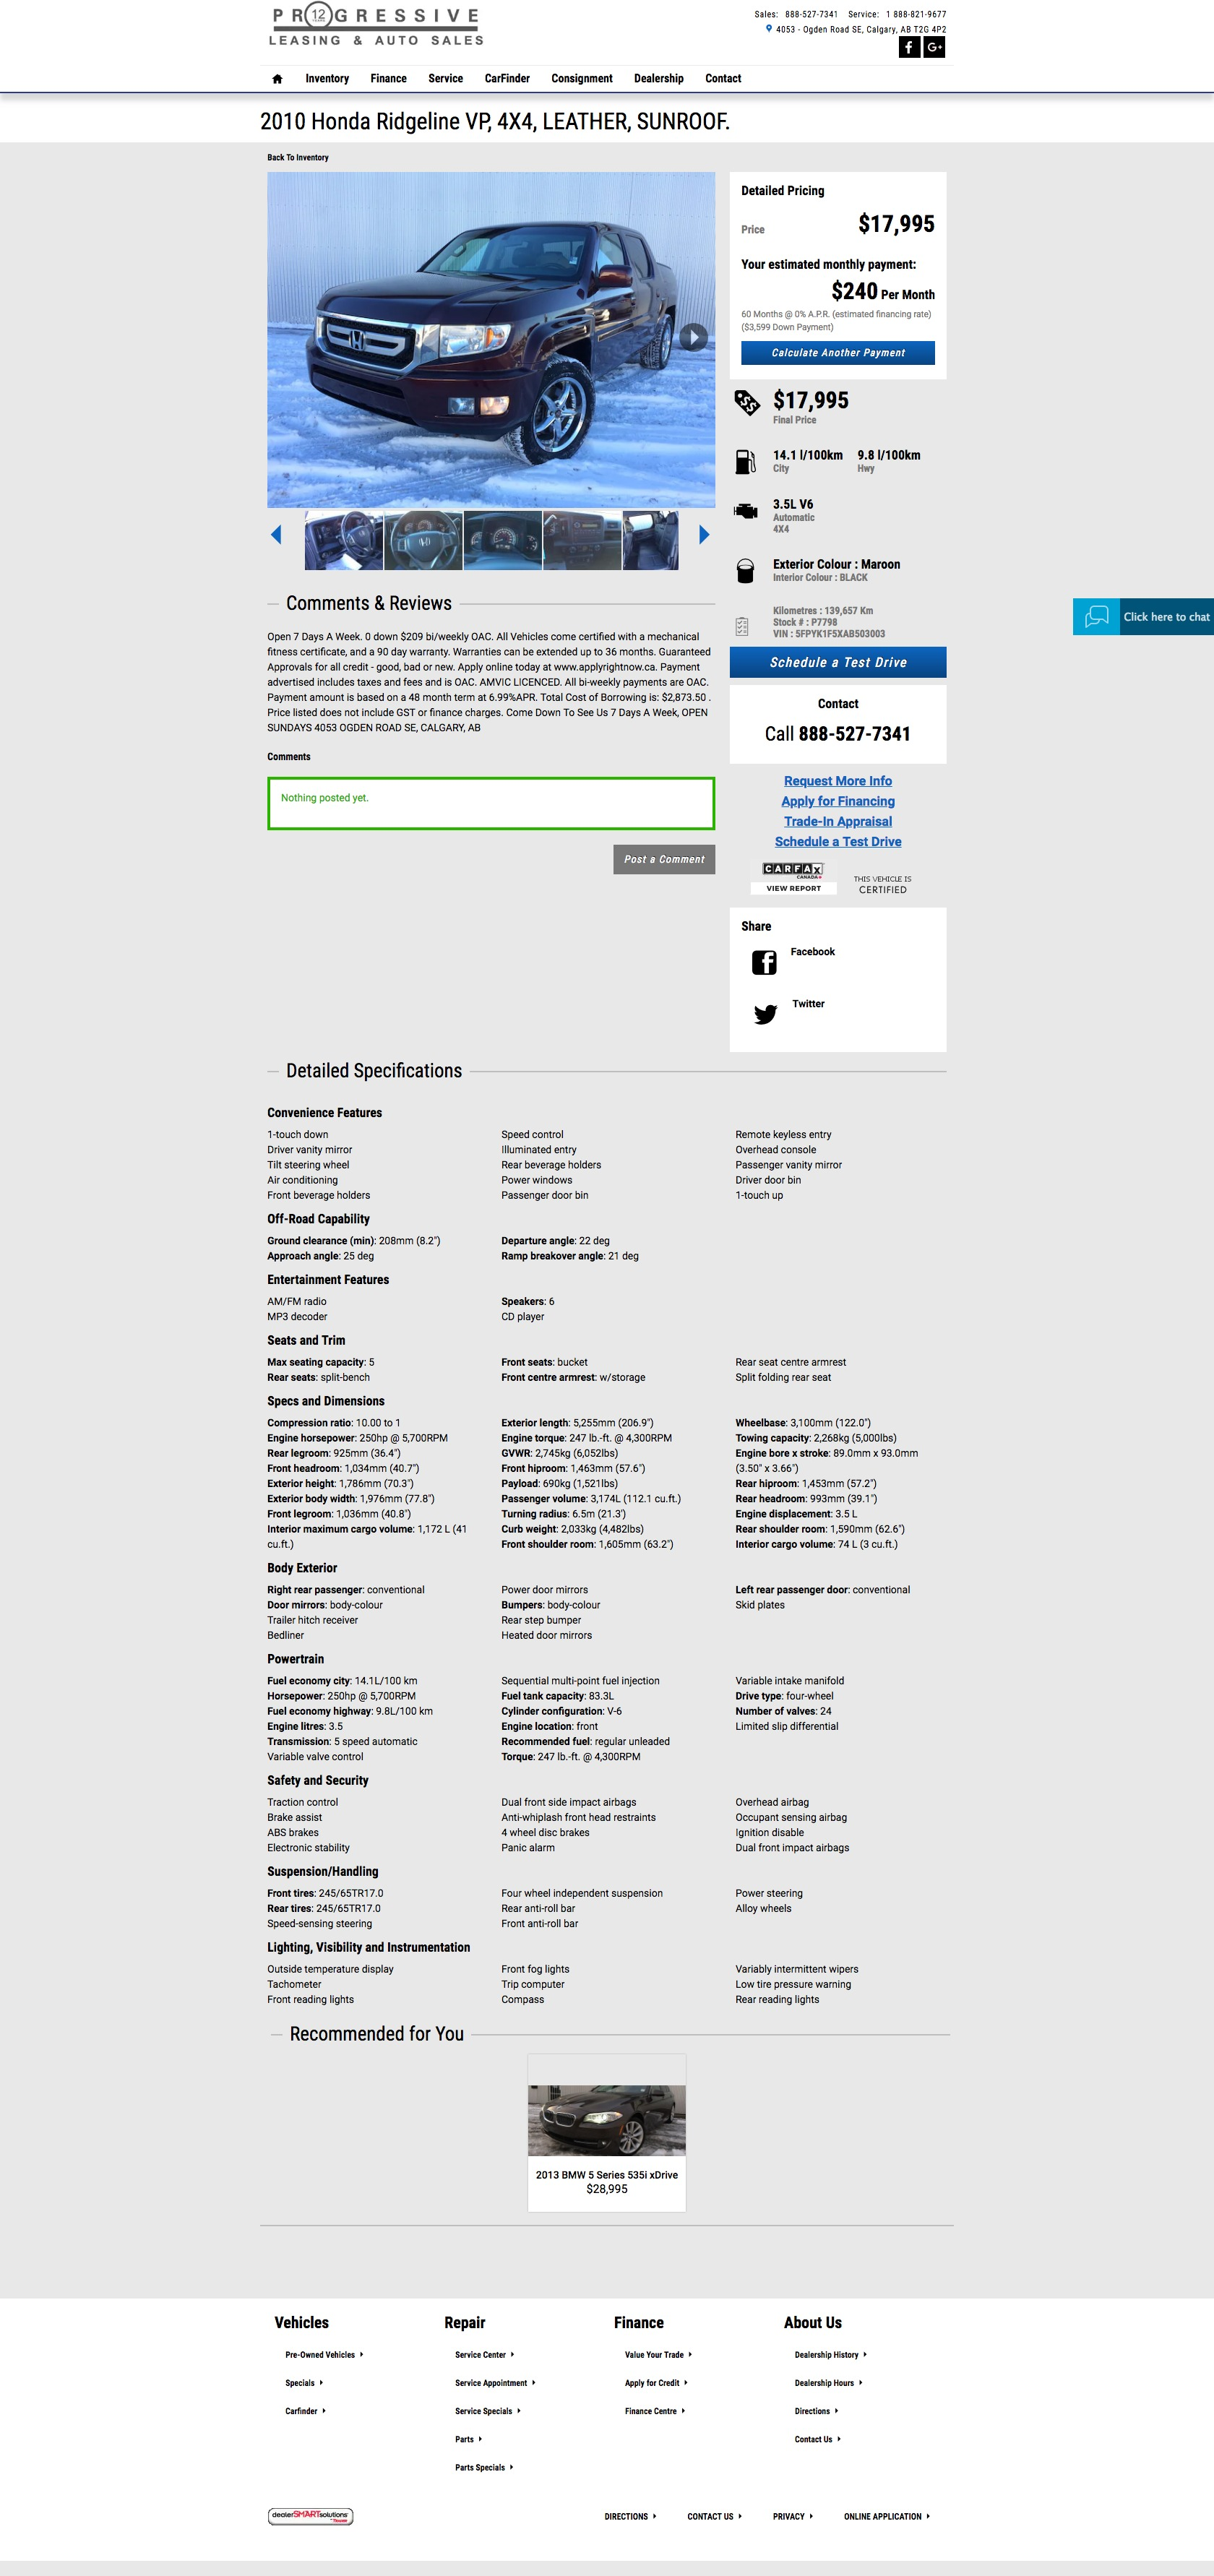car: (698, 524, 713, 549)
